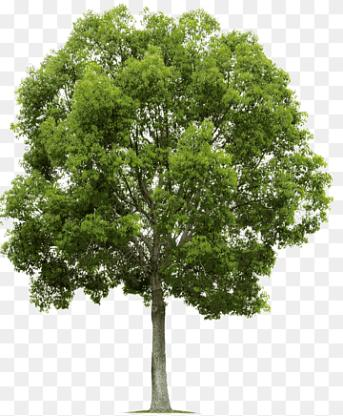tree: (0, 0, 333, 416)
